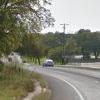Tree: (2, 2, 48, 86)
